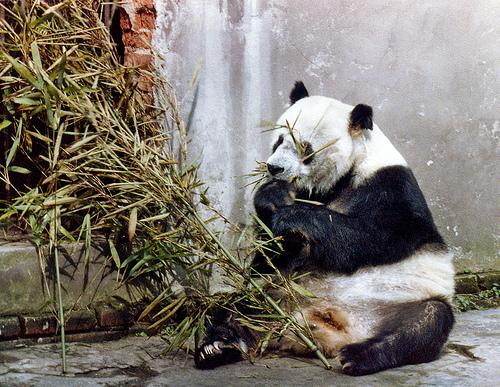panda: (251, 83, 454, 373)
